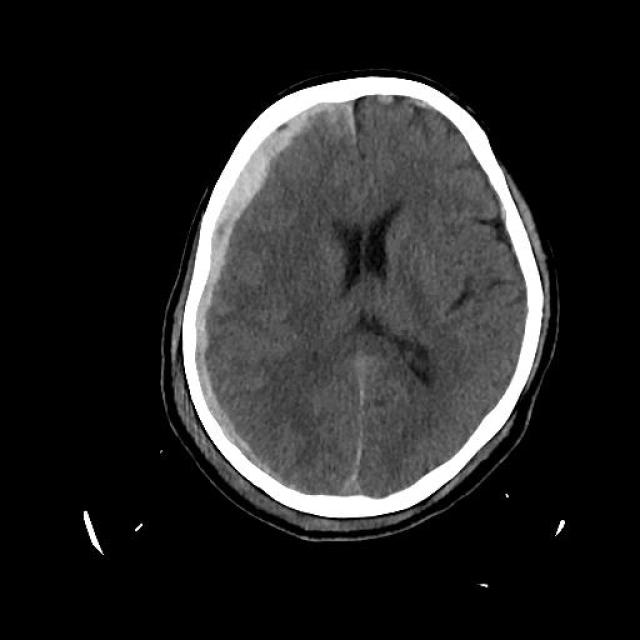Subdural: (145, 100, 353, 518)
